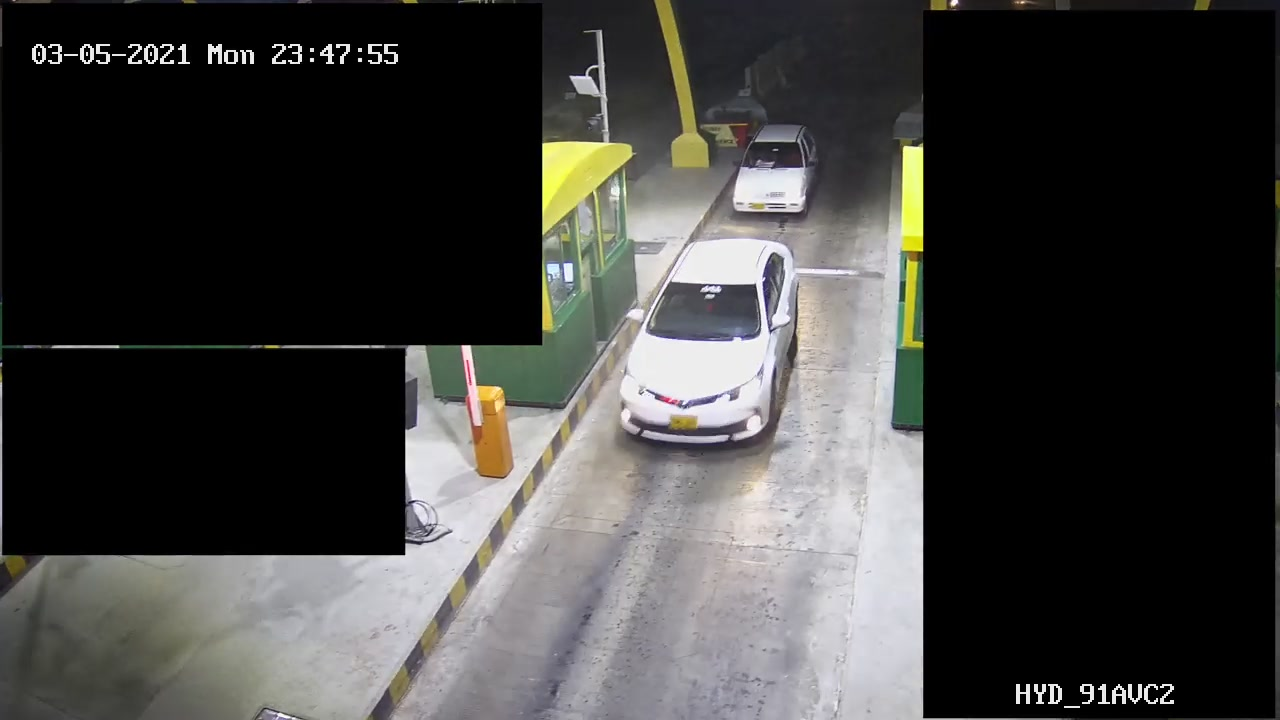F1: (603, 239, 806, 454), (730, 119, 823, 223)
